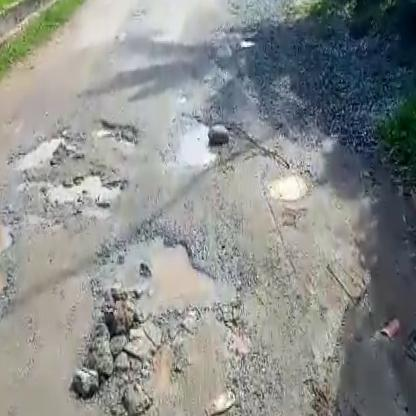pothole: (75, 224, 242, 330), (46, 163, 129, 208), (11, 132, 73, 174), (172, 115, 215, 166), (262, 165, 312, 202), (94, 116, 142, 149)
